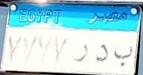7: (53, 35, 67, 62), (23, 36, 37, 63), (38, 37, 52, 62), (7, 36, 21, 61)
baa: (114, 43, 133, 68)
daal: (94, 42, 109, 64)
raa: (73, 43, 89, 65)
